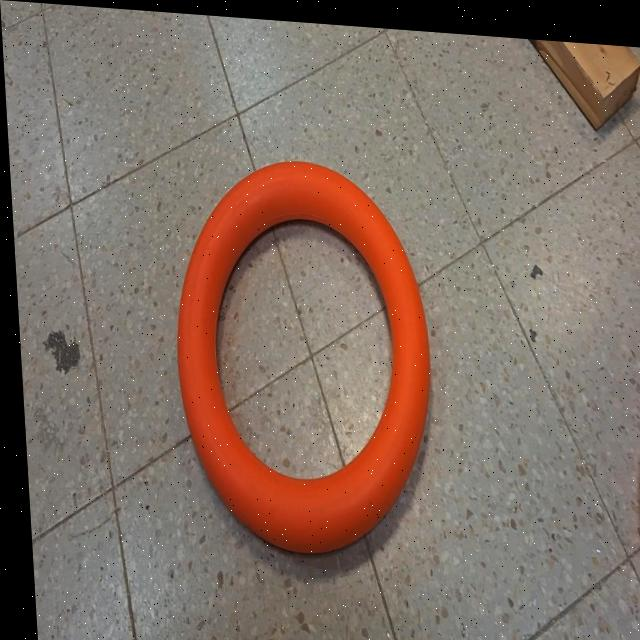note: (162, 150, 437, 570), (637, 402, 640, 625)
